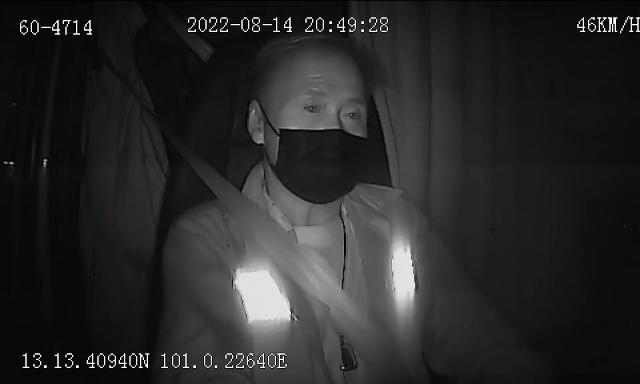SafeDriving: (337, 101, 367, 125), (297, 95, 328, 118)
Seatbelt: (192, 161, 386, 384)
